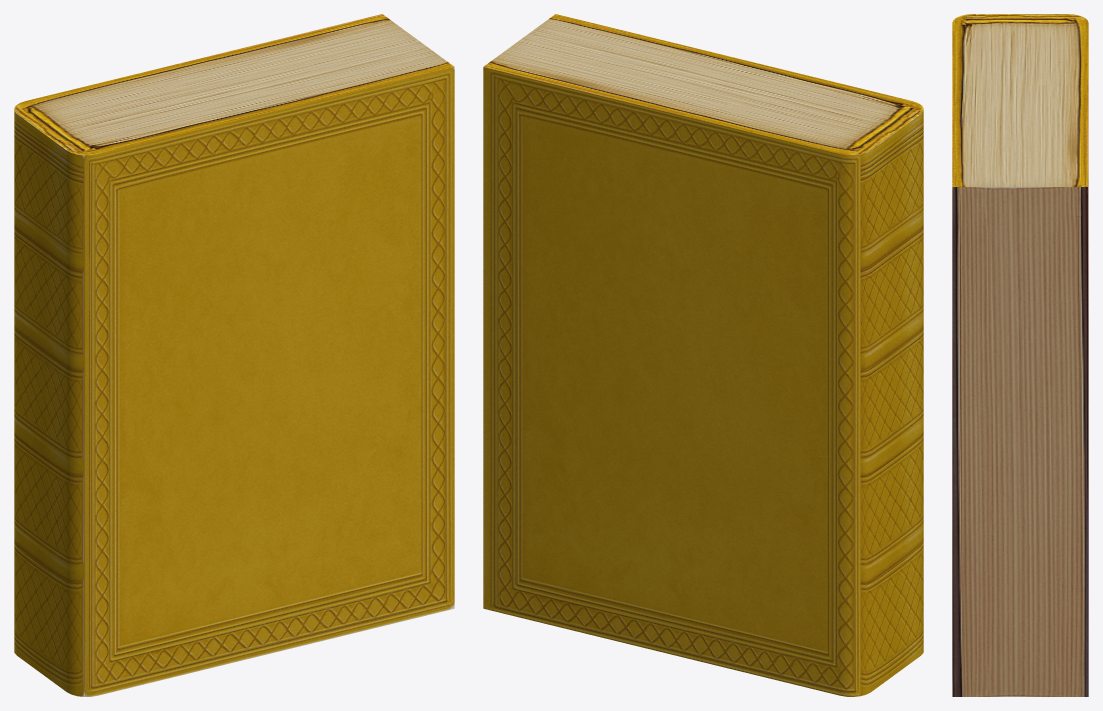
File: BookYellow.glb
3 renders of one model, left to right at view 1: azimuth 30°, elevation 25°; view 2: azimuth 150°, elevation 25°; view 3: azimuth 270°, elevation 25°, orthographic. The views are drawn at different scales.
Visible parts, largest first — view 1: Books1.014; view 2: Books1.014; view 3: Books1.014.
Part boxes in pixels (bbox=[...]): Books1.014: bbox=[14, 14, 454, 696]; Books1.014: bbox=[483, 14, 923, 696]; Books1.014: bbox=[952, 14, 1088, 696].
Bounding box in the file's own units: 0.1167 × 0.1604 × 0.0389.
Materials: 1 (1 with a texture image).
